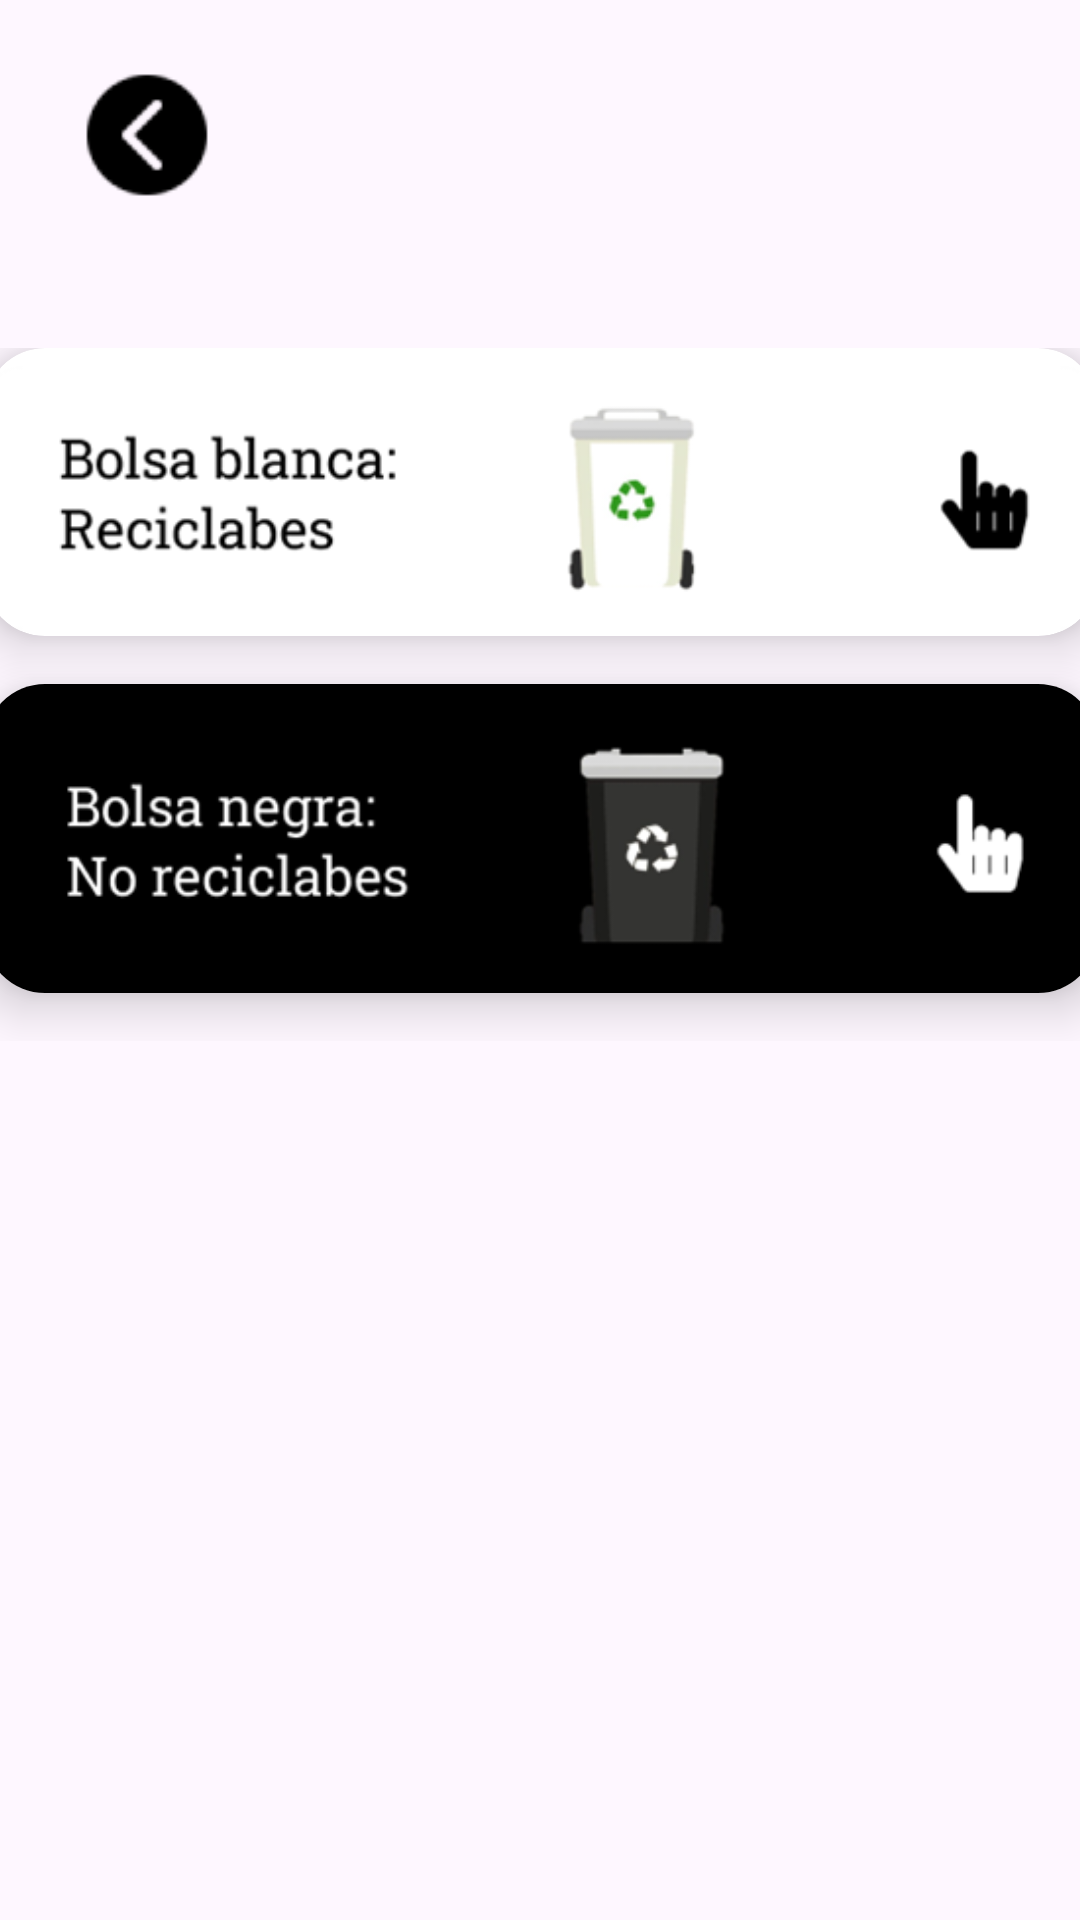

Locate icon controls on the screen. Image size 1080x1920, boxes as (x1, y1, x2, y2).
flecha atras: (86, 74, 208, 196)
